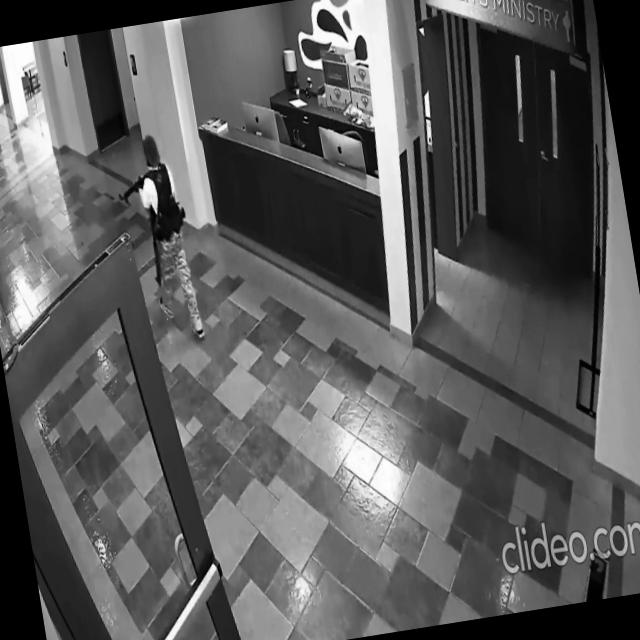gun: (142, 200, 166, 286), (116, 169, 153, 205)
person with a gun: (110, 130, 208, 350)
